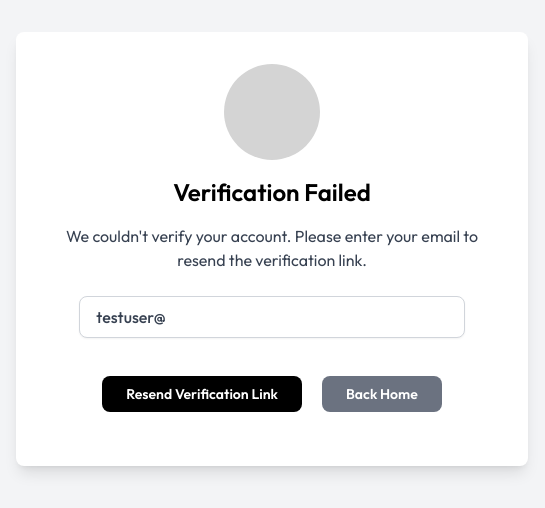
it: VerificationFail Component › displays error message when email input is empty
Clear the field with placeholder "Enter your email" at (272, 317), box [79, 296, 465, 338]
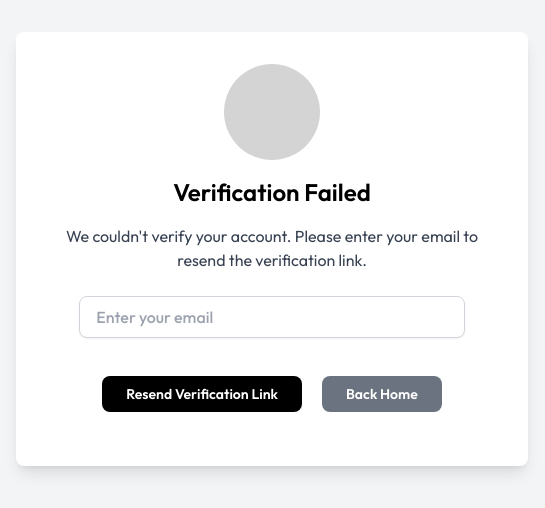
Click the button "Resend Verification Link".
click(202, 394)  # box [102, 376, 302, 412]
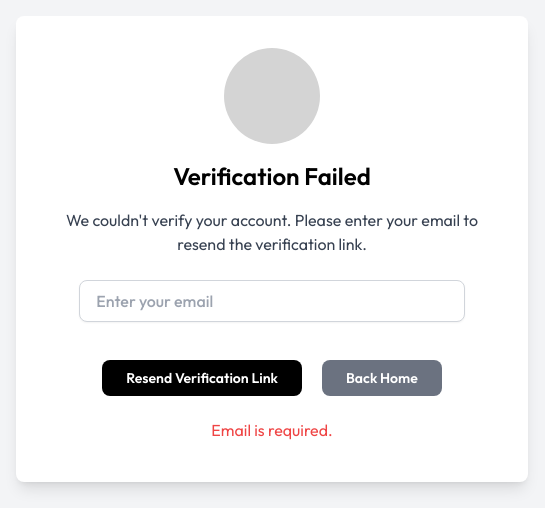
Result: the text "Email is required." is shown at [211, 418, 333, 442]
